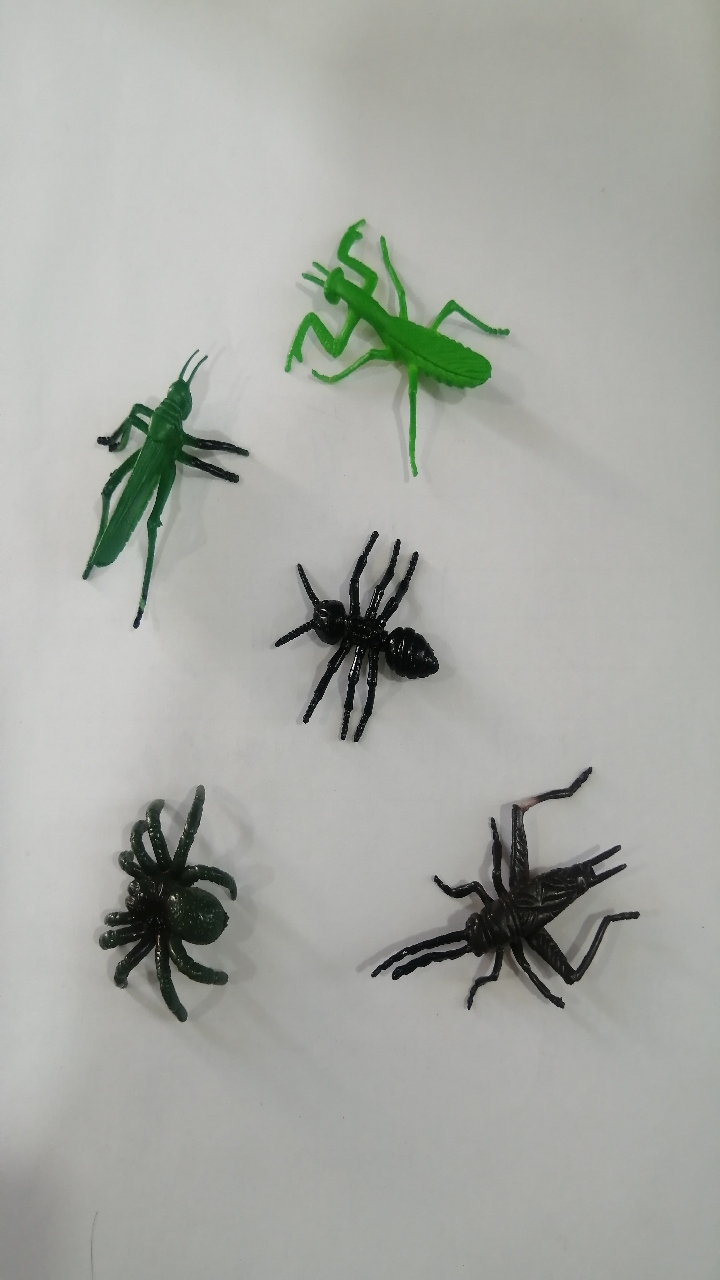intruso: (358, 769, 663, 1055), (258, 197, 534, 494), (31, 328, 255, 639), (63, 760, 266, 1055), (251, 500, 455, 759)
